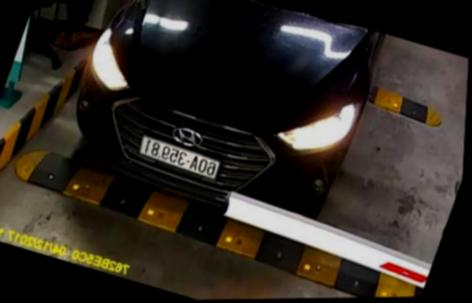License_Plate: (132, 138, 226, 178)
